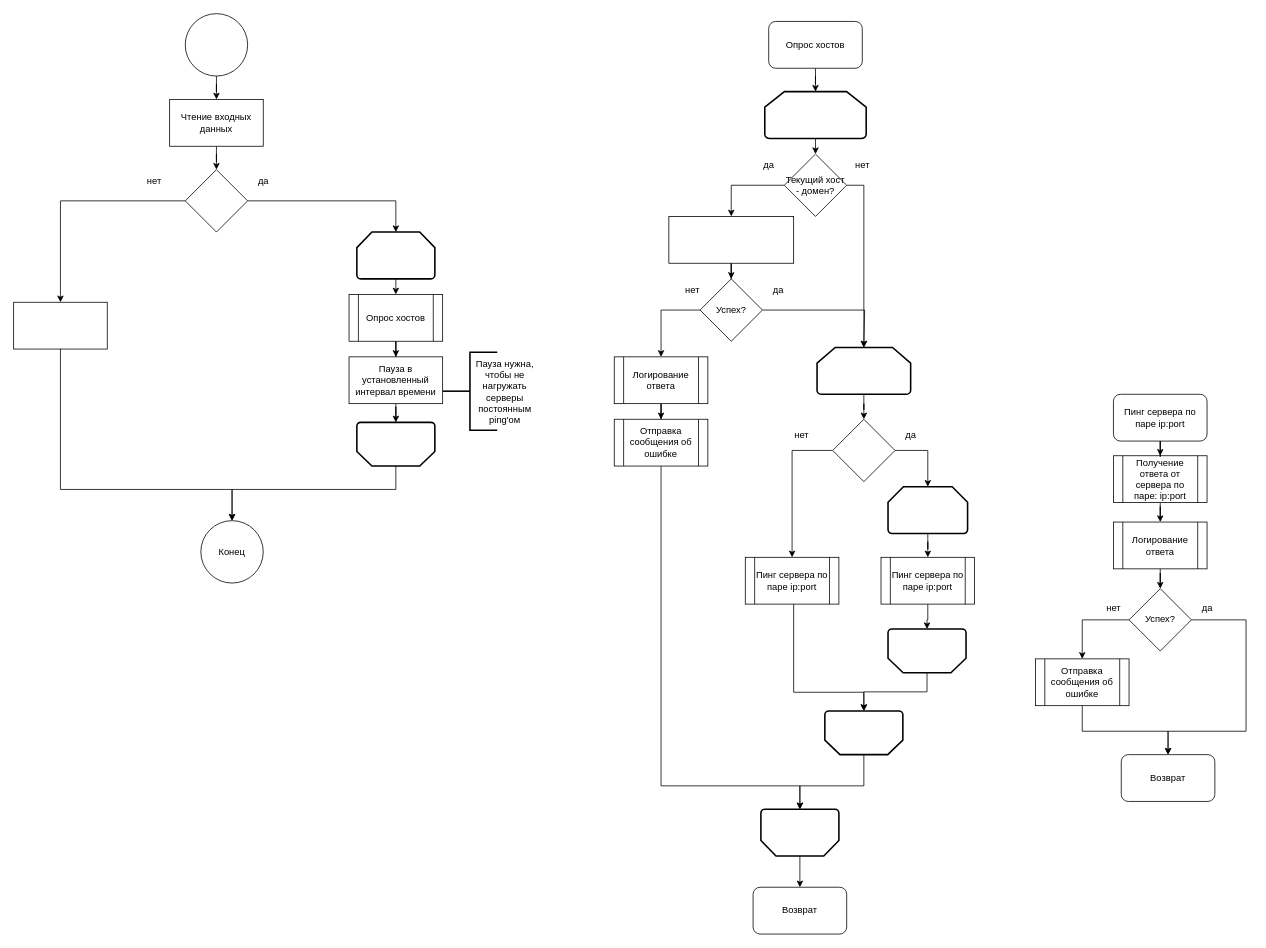
This 1266x948 diagram has some shape labels left out. Here are the shapes that lost their labels. From the top down, the box of each, then its label:
(184, 13, 248, 76): Старт
(764, 90, 867, 139): Итерация по всем парам: [хост;порты]
(184, 169, 248, 232): Корректны?
(356, 231, 435, 279): Пока SIGKILL не получен
(668, 216, 794, 263): Разрешить домен (получить список ip-адресов)
(13, 301, 107, 349): Вывод сообщения об ошибке
(816, 346, 911, 395): Итерация по всем ip-адресам
(832, 418, 895, 482): Порты есть?
(887, 486, 968, 534): Итерация по всем портам
